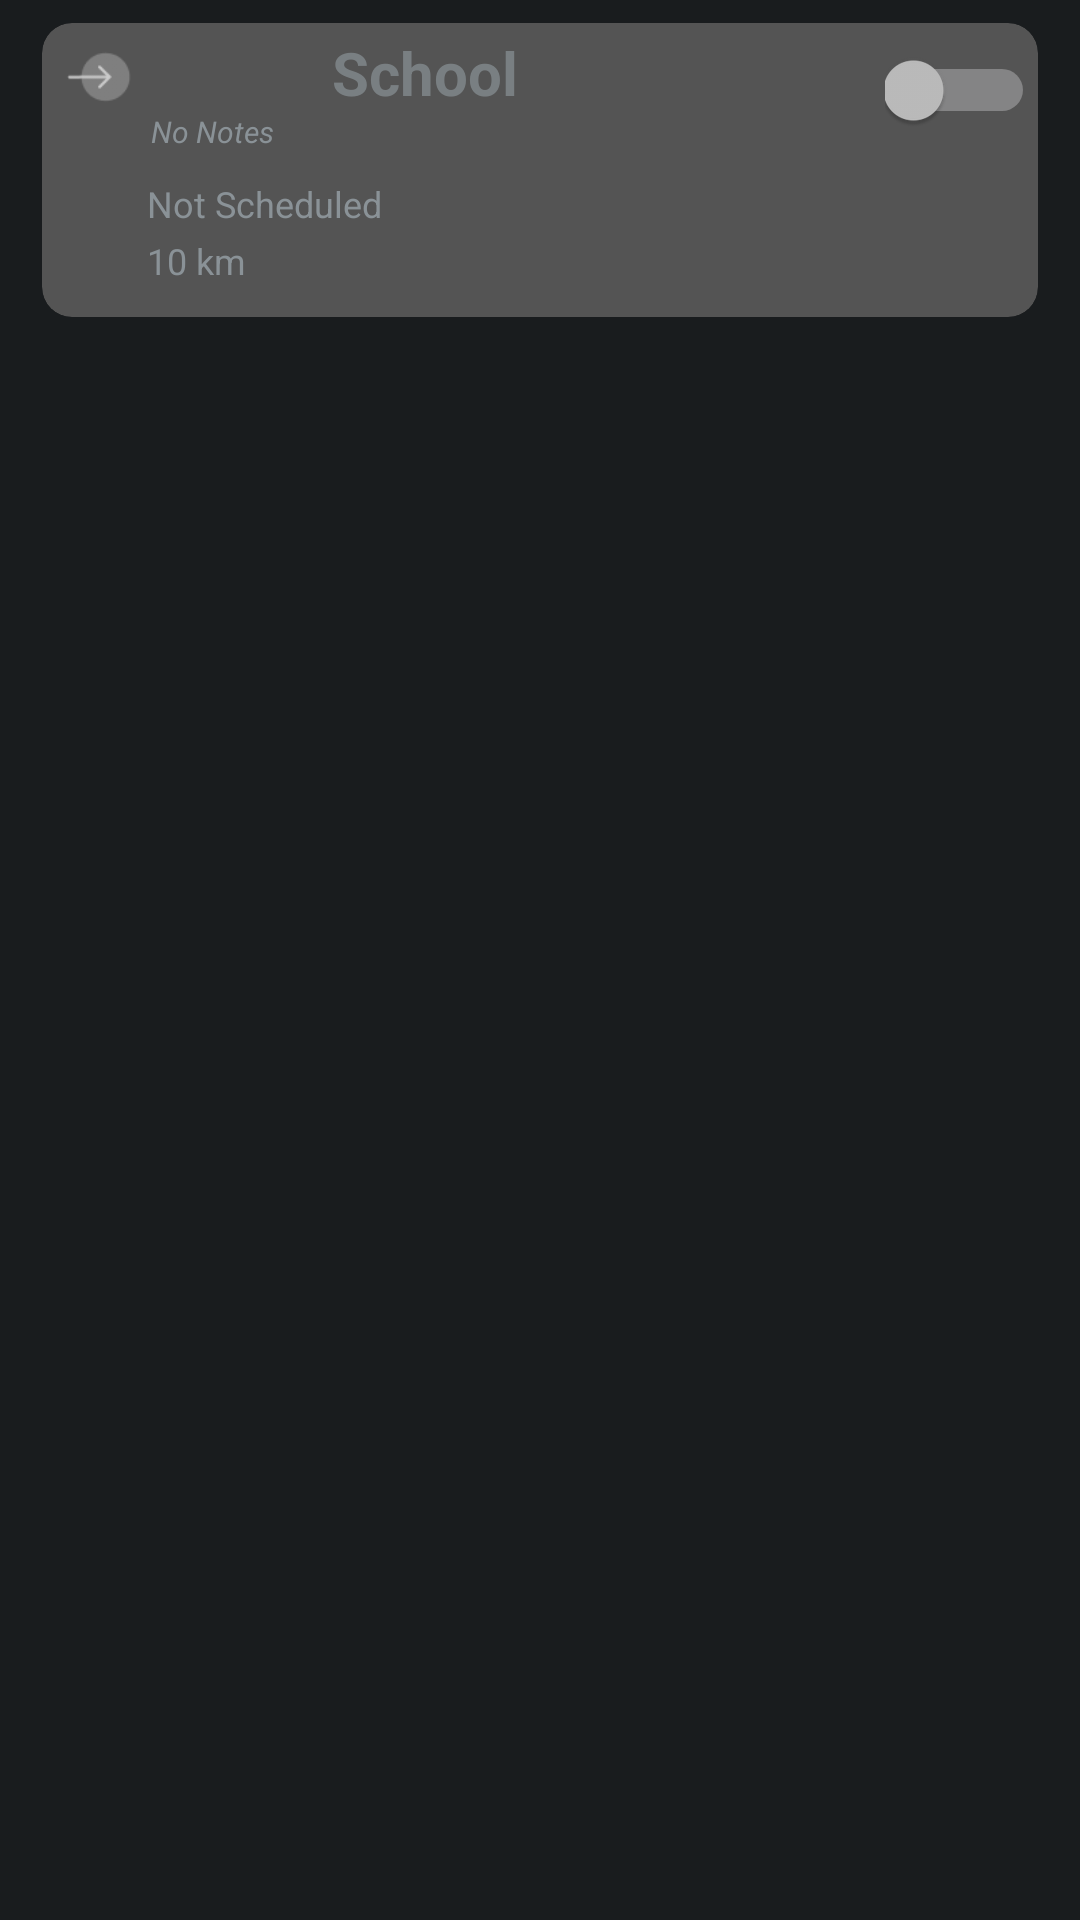

Named icons in this screenshot (1080*1920) and their centers, (x=x, y=y):
entry: (x=98, y=77)
